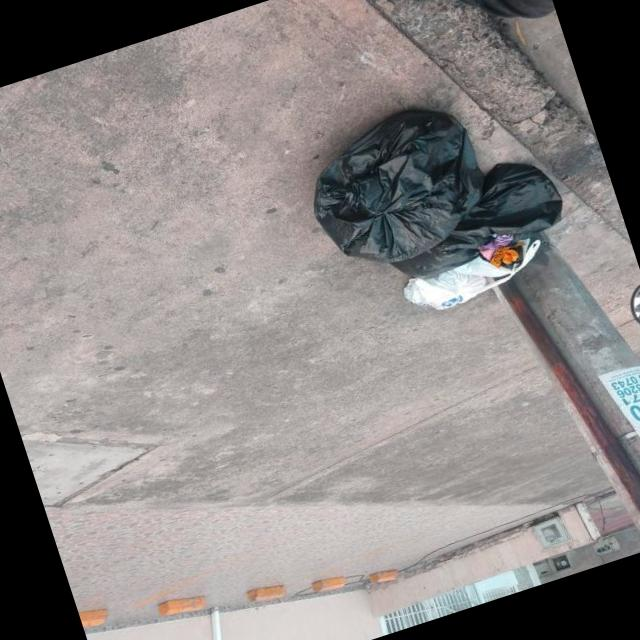high trash: (314, 112, 563, 310)
